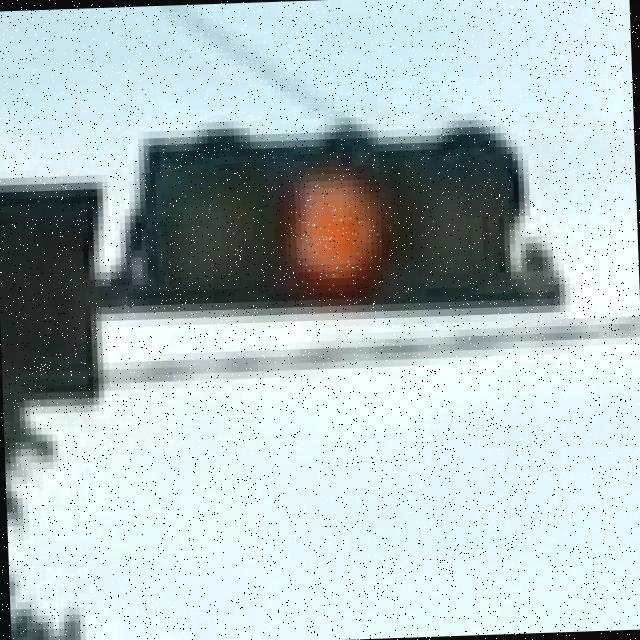Zolte swiatlo: (116, 111, 523, 327)
